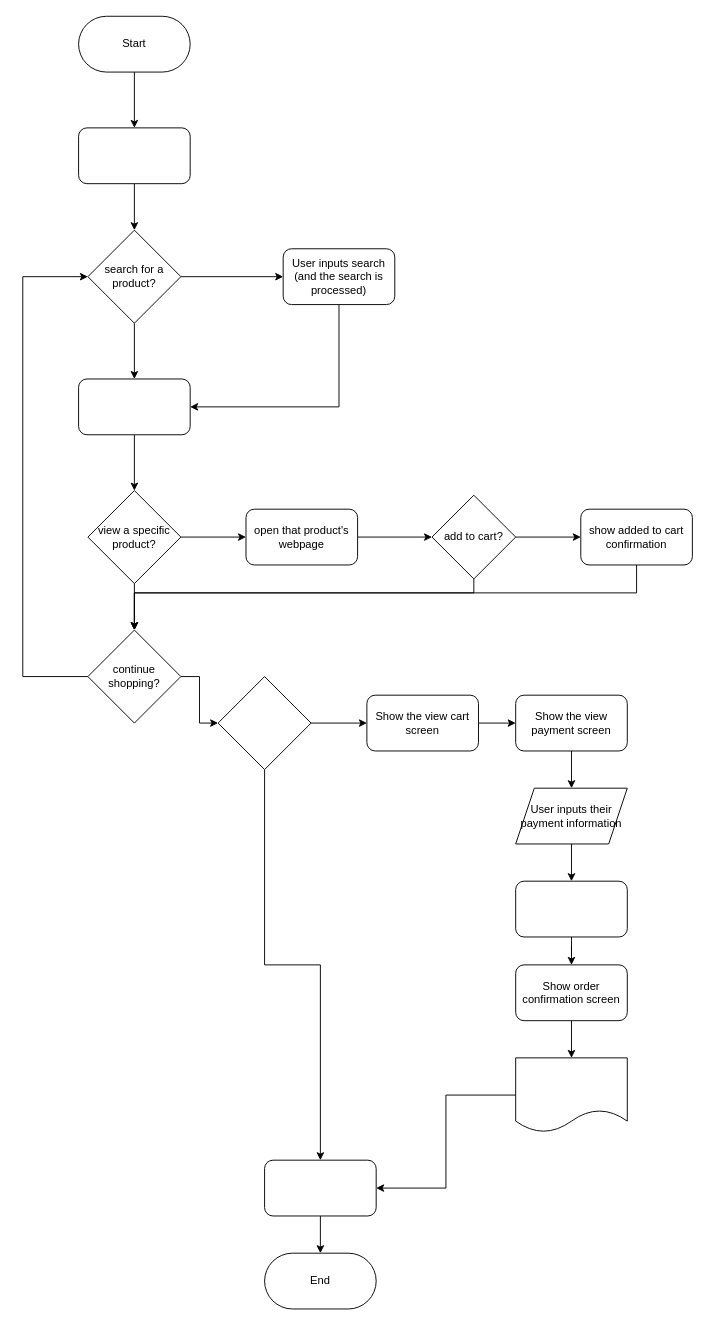
Image size: 709x1325. Some labels were removed from this diagram. Each missing label, with the centre of its shape:
"Checkout?" belongs at point 264,723.
"Payment processed" belongs at point 571,908.
"Send order confirmation email" belongs at point 571,1094.
"User enters site" belongs at point 134,155.
"User leaves the site" belongs at point 320,1187.
"User looks over items" belongs at point 134,406.
